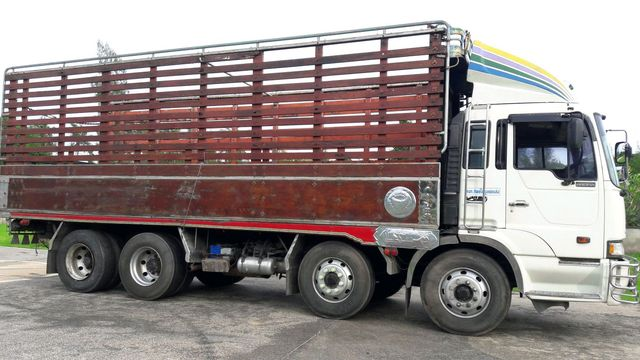truck: (1, 21, 628, 337)
